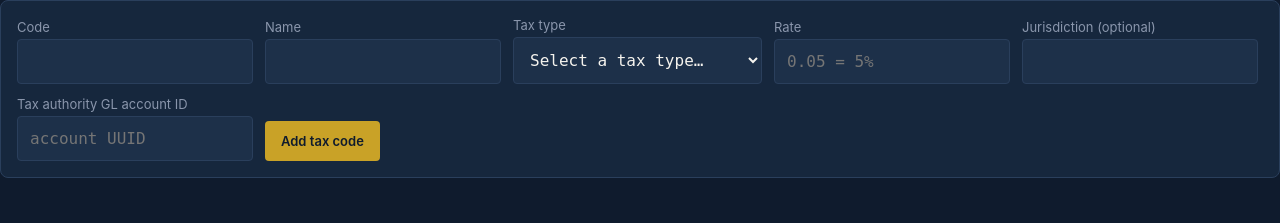
Test: CreateTaxCodeForm › shows the action-returned error message on failure
Type "WHT-10" into the field labelled "Code" at (135, 62), box [17, 39, 253, 84]
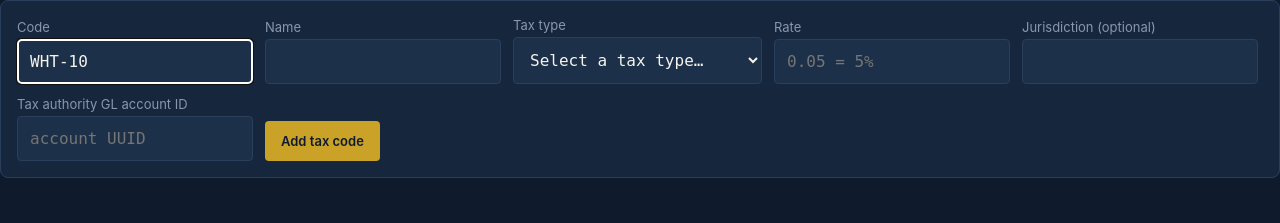
Type "Withholding Tax 10%" into the field labelled "Name" at (383, 62), box [265, 39, 501, 84]
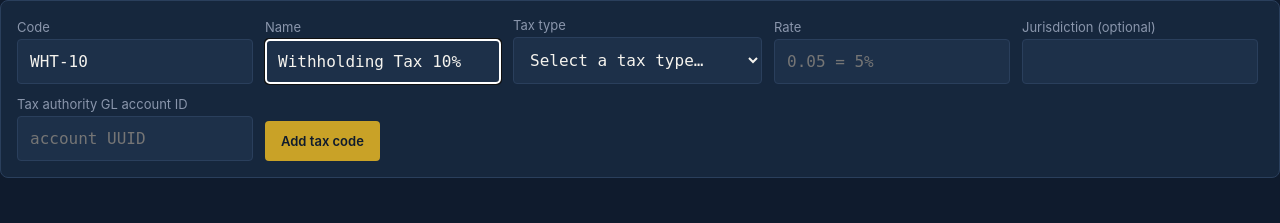
Select "WHT — Withholding Tax" in the dropdown labelled "Tax type" at (638, 60), box [513, 37, 762, 84]
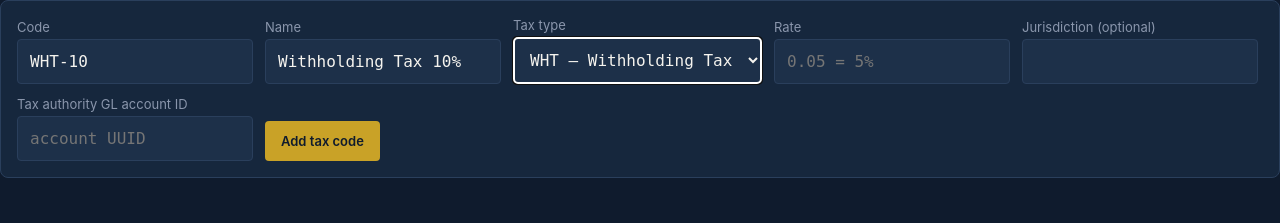
Type "0.1" into the number field labelled "Rate" at (892, 62), box [774, 39, 1010, 84]
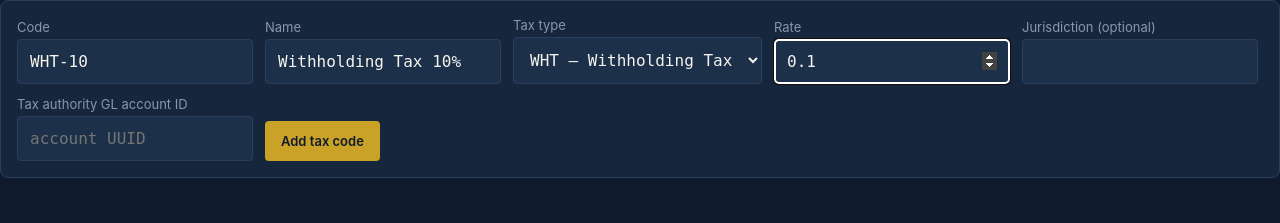
Type "account-uuid-1" into the field labelled "Tax authority GL account ID" at (135, 138), box [17, 116, 253, 161]
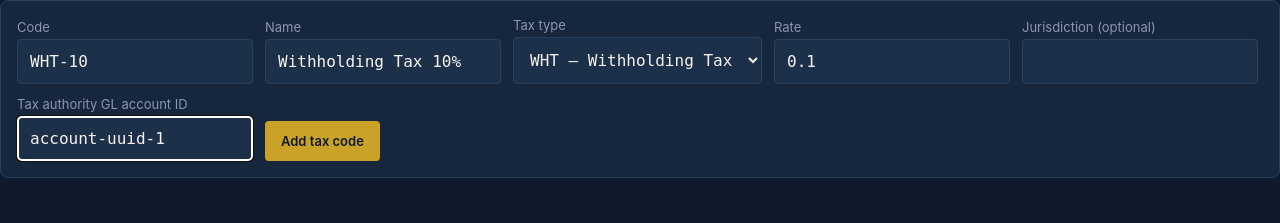
Click the button "Add tax code" at (322, 141), box [265, 121, 380, 161]
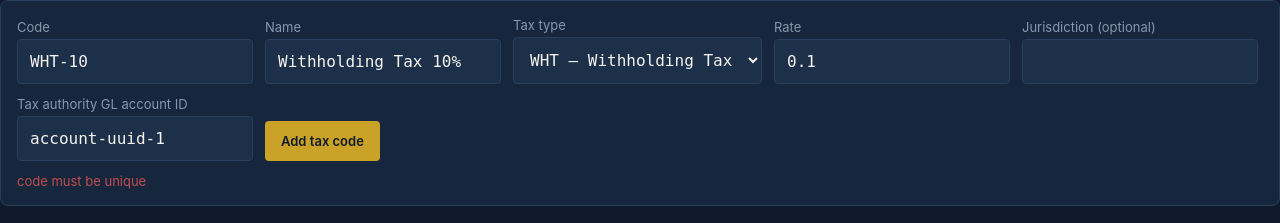
Result: the text "code must be unique" is shown at [17, 173, 146, 189]
